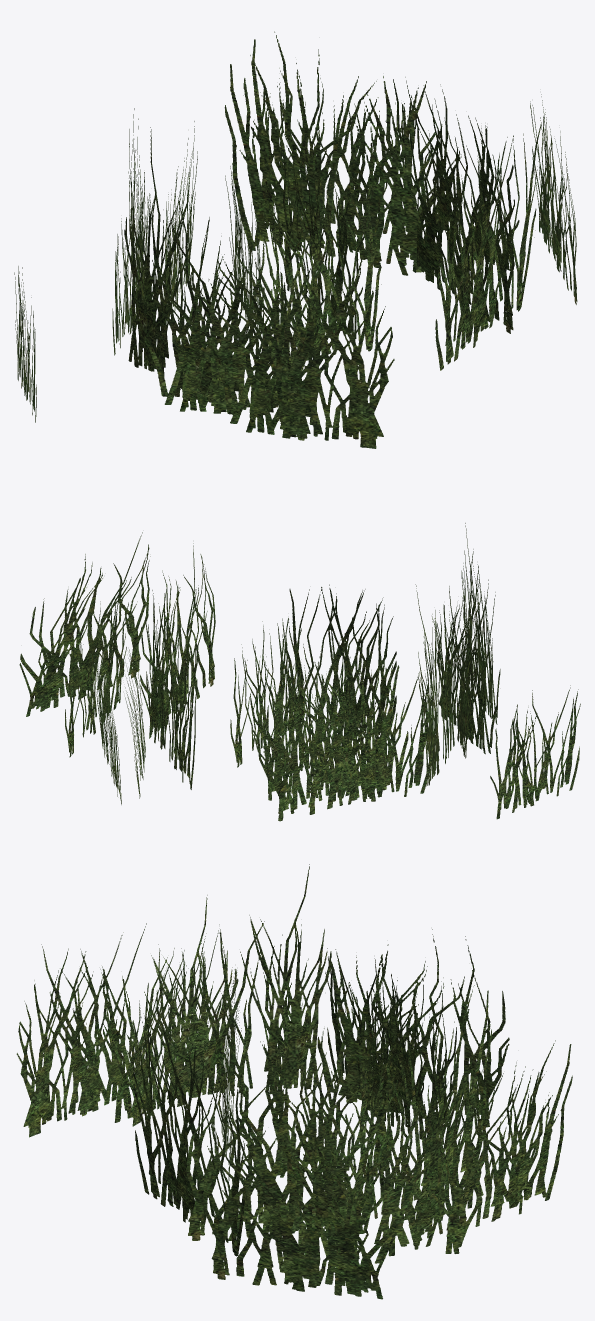
Rendered from grass_3d_01.glb.
3 renders of one model, top to bottom at view 1: azimuth 30°, elevation 25°; view 2: azimuth 150°, elevation 25°; view 3: azimuth 270°, elevation 25°, orthographic. The views are drawn at different scales.
Parts seen in each view (by area): view 1: grass_cards; view 2: grass_cards; view 3: grass_cards.
Part boxes in pixels (bbox=[...]): grass_cards: bbox=[14, 31, 577, 448]; grass_cards: bbox=[19, 523, 580, 821]; grass_cards: bbox=[16, 864, 572, 1299].
Bounding box in the file's own units: 1.1 × 0.4321 × 0.9366.
Materials: 1 (1 with a texture image).
